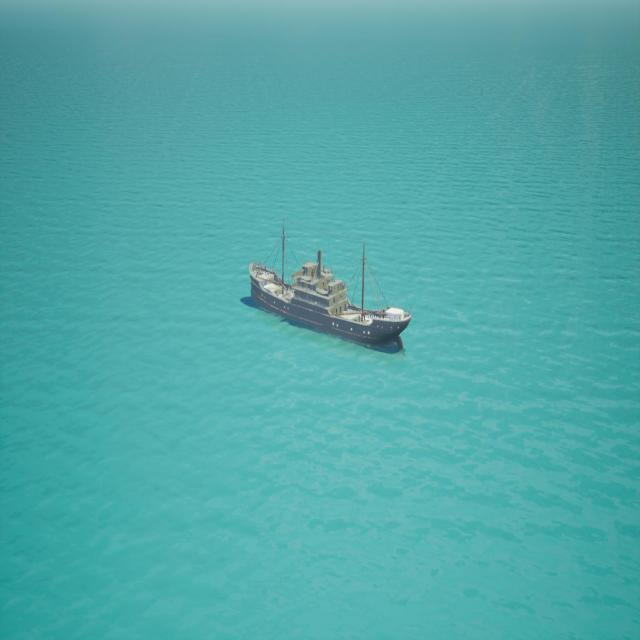fishing ship: (246, 226, 413, 354)
